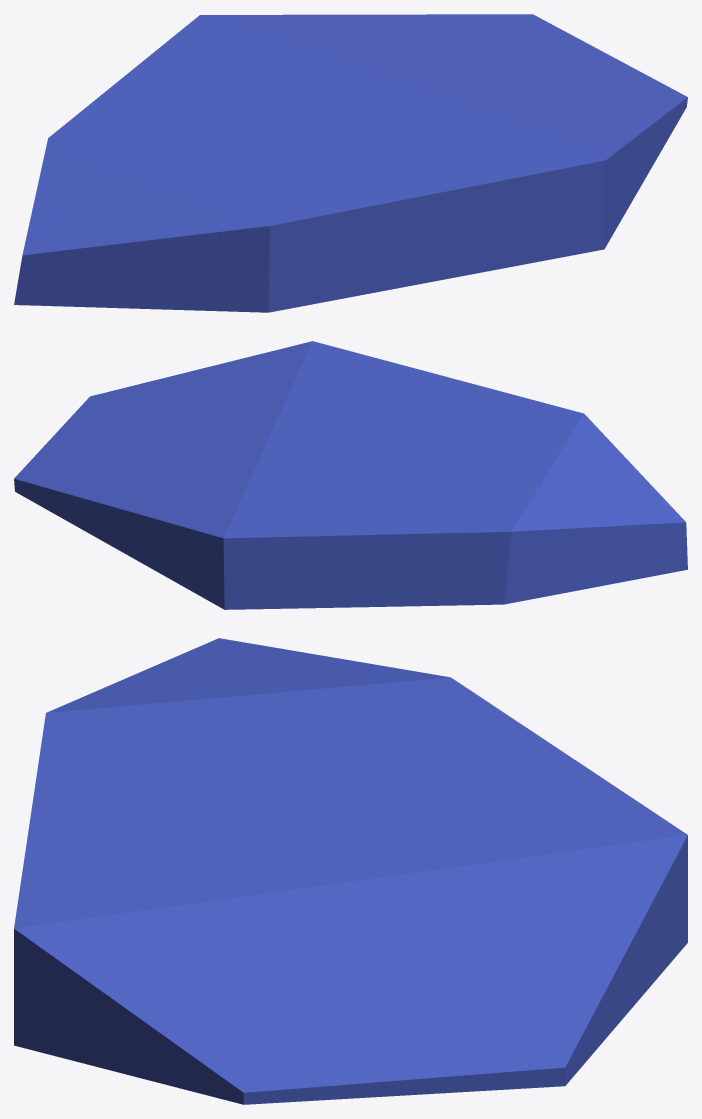
Rendered from tropicalfishDead_low.glb.
The picture shows the model from 3 angles, top to bottom: view 1: azimuth 30°, elevation 25°; view 2: azimuth 150°, elevation 25°; view 3: azimuth 270°, elevation 25°; orthographic projection. The views are drawn at different scales.
Visible parts, largest first — view 1: Cube; view 2: Cube; view 3: Cube.
Part boxes in pixels (x1,y1,x2,y2): Cube: (14, 14, 687, 312); Cube: (14, 341, 687, 609); Cube: (14, 638, 687, 1104).
Bounding box in the file's own units: 0.5161 × 0.0677 × 0.3338.
